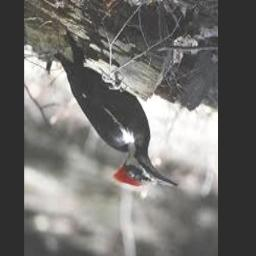Woodpecker: (55, 35, 177, 190)
